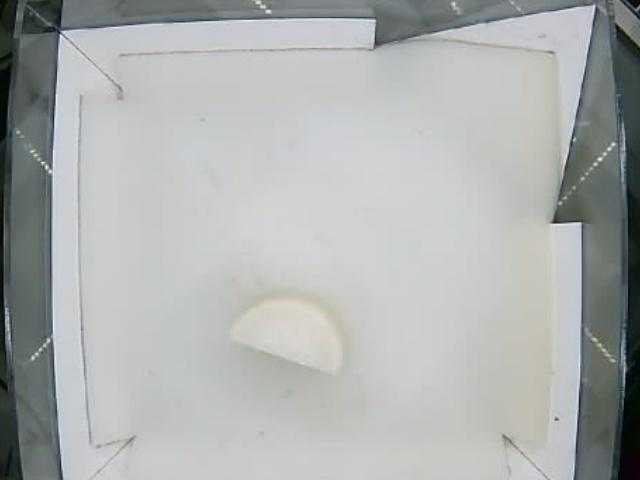Mooli: (227, 297, 345, 374)
